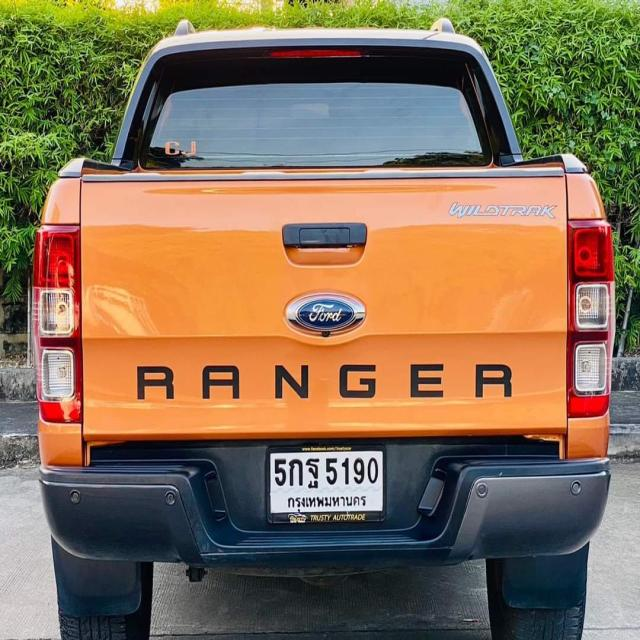license_plate: (262, 442, 388, 530)
